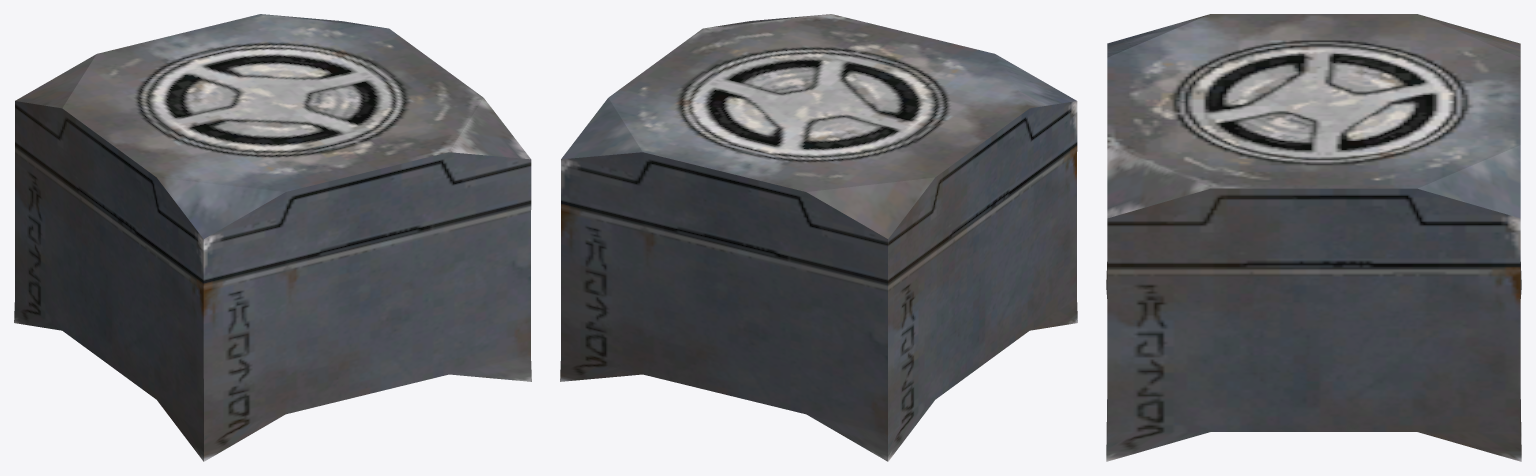
Rendered from con_gen_energy_solid_lg_l1.fbx.
The picture shows the model from 3 angles, left to right: view 1: azimuth 30°, elevation 25°; view 2: azimuth 150°, elevation 25°; view 3: azimuth 270°, elevation 25°; orthographic projection. The views are drawn at different scales.
Visible parts, largest first — view 1: mesh_node; view 2: mesh_node; view 3: mesh_node.
Part boxes in pixels (x1,y1,x2,y2): mesh_node: (14,14,531,461); mesh_node: (560,14,1077,461); mesh_node: (1106,14,1521,461).
Size of the model in its own units: 0.9541 by 0.6931 by 0.956.
1 material, 1 textured.
